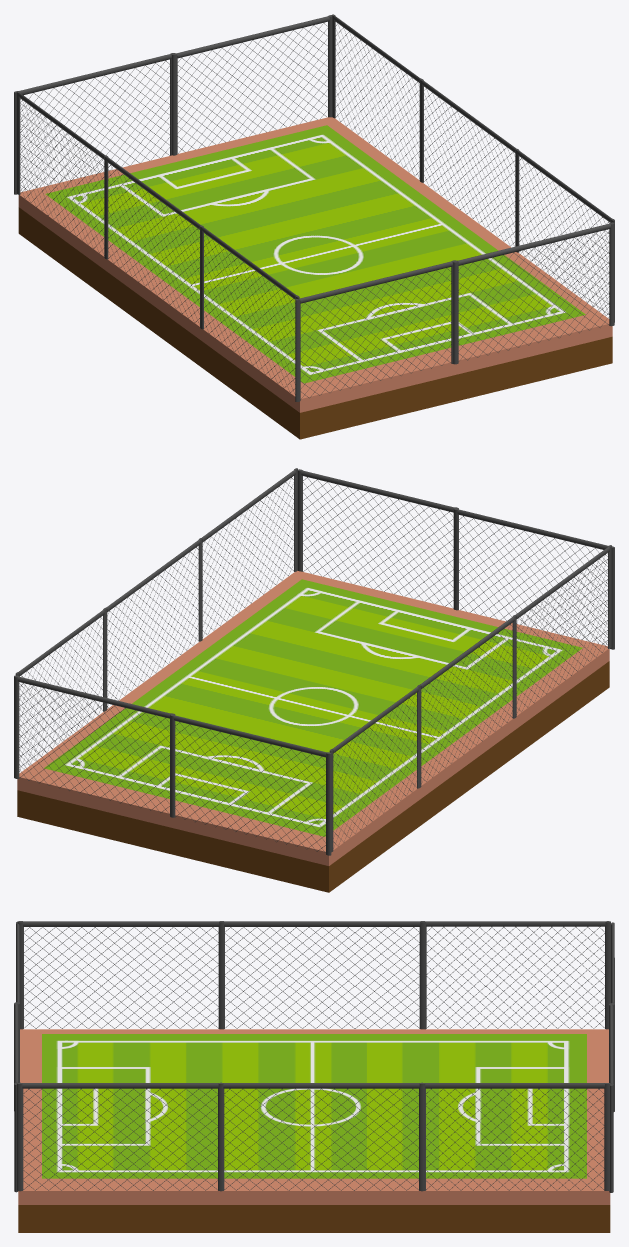
Rendered from field3.glb.
The picture shows the model from 3 angles, top to bottom: view 1: azimuth 30°, elevation 25°; view 2: azimuth 150°, elevation 25°; view 3: azimuth 270°, elevation 25°; orthographic projection. The views are drawn at different scales.
Visible parts, largest first — view 1: Cube, Cube_football_field_0.001, Null_2_1__0.003, Null_2_1__0.002, Null_2_1__0.004, Null_2_1__0.005, Null_1_1__0.001, Null_1_1, Null_2_1__0.001, Null_2_1, Null_0_1__0.001, Null_0_1; view 2: Cube, Cube_football_field_0.001, Null_2_1__0.005, Null_2_1__0.004, Null_2_1__0.002, Null_2_1__0.003, Null_1_1__0.001, Null_1_1, Null_0_1, Null_0_1__0.001, Null_2_1__0.001, Null_2_1; view 3: Cube, Cube_football_field_0.001, Null_1_1__0.001, Null_1_1, Null_0_1, Null_0_1__0.001, Null_2_1__0.001, Null_2_1, Null_2_1__0.002, Null_2_1__0.003, Null_2_1__0.005, Null_2_1__0.004.
Part boxes in pixels (left/top/right/bottom): Cube: left=18, top=125, right=612, bottom=439; Cube_football_field_0.001: left=20, top=117, right=609, bottom=398; Null_2_1__0.003: left=453, top=222, right=614, bottom=364; Null_2_1__0.002: left=172, top=15, right=332, bottom=155; Null_2_1__0.004: left=295, top=260, right=456, bottom=401; Null_2_1__0.005: left=14, top=53, right=174, bottom=194; Null_1_1__0.001: left=104, top=155, right=202, bottom=328; Null_1_1: left=420, top=79, right=519, bottom=252; Null_2_1__0.001: left=16, top=91, right=107, bottom=257; Null_2_1: left=332, top=14, right=422, bottom=180; Null_0_1__0.001: left=200, top=225, right=299, bottom=394; Null_0_1: left=515, top=149, right=614, bottom=322; Cube: left=17, top=579, right=609, bottom=892; Cube_football_field_0.001: left=19, top=571, right=607, bottom=851; Null_2_1__0.005: left=170, top=715, right=331, bottom=855; Null_2_1__0.004: left=453, top=508, right=614, bottom=649; Null_2_1__0.002: left=14, top=675, right=175, bottom=814; Null_2_1__0.003: left=298, top=469, right=458, bottom=608; Null_1_1__0.001: left=417, top=615, right=516, bottom=787; Null_1_1: left=103, top=538, right=202, bottom=710; Null_0_1: left=199, top=468, right=297, bottom=637; Null_0_1__0.001: left=513, top=545, right=611, bottom=714; Null_2_1__0.001: left=329, top=685, right=419, bottom=852; Null_2_1: left=15, top=608, right=105, bottom=771; Cube: left=18, top=1034, right=610, bottom=1232; Cube_football_field_0.001: left=20, top=1029, right=608, bottom=1190; Null_1_1__0.001: left=219, top=921, right=425, bottom=1029; Null_1_1: left=218, top=1082, right=424, bottom=1191; Null_0_1: left=17, top=1082, right=222, bottom=1191; Null_0_1__0.001: left=17, top=921, right=223, bottom=1029; Null_2_1__0.001: left=421, top=921, right=610, bottom=1029; Null_2_1: left=421, top=1083, right=610, bottom=1190; Null_2_1__0.002: left=609, top=1003, right=613, bottom=1192; Null_2_1__0.003: left=14, top=1002, right=18, bottom=1192; Null_2_1__0.005: left=611, top=922, right=614, bottom=1111; Null_2_1__0.004: left=16, top=921, right=19, bottom=1082.
Bounding box in the file's own units: 302 × 129 × 467.
7 materials, 1 textured.
